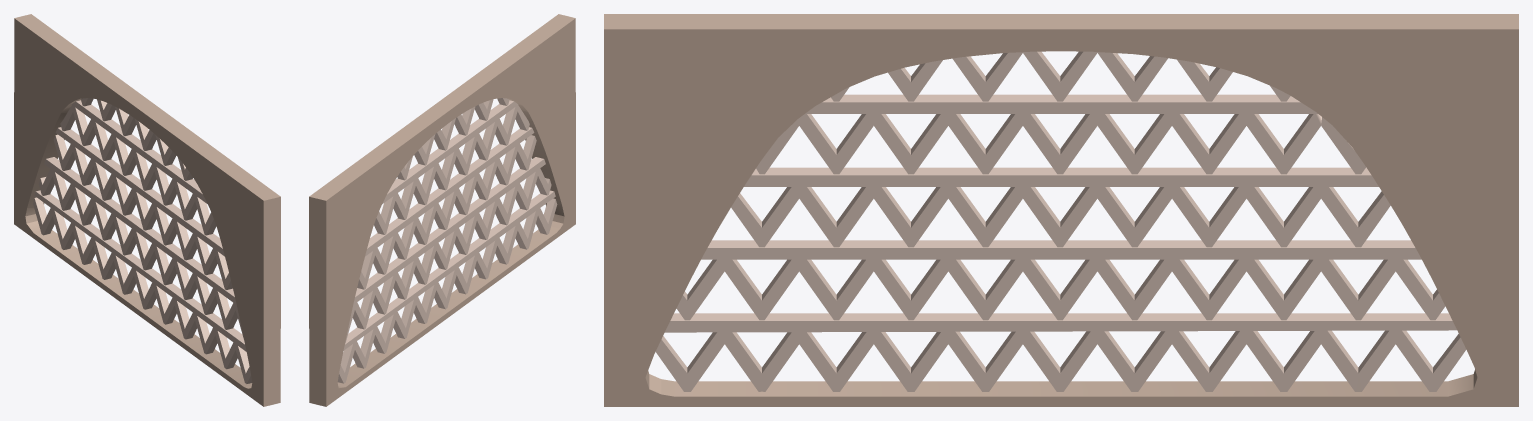
File: upperFloorWindow.fbx
3 views of the same model, side by side, from view 1: azimuth 30°, elevation 25°; view 2: azimuth 150°, elevation 25°; view 3: azimuth 270°, elevation 25° (orthographic). The views are drawn at different scales.
Visible parts, largest first — view 1: upperFloorWindow; view 2: upperFloorWindow; view 3: upperFloorWindow.
Boxes of the visible parts, x1,y1,x2,y2 form: upperFloorWindow: (14,14,280,406); upperFloorWindow: (309,14,575,406); upperFloorWindow: (604,14,1518,406).
Bounding box in the file's own units: 10.07 × 253 × 115.
